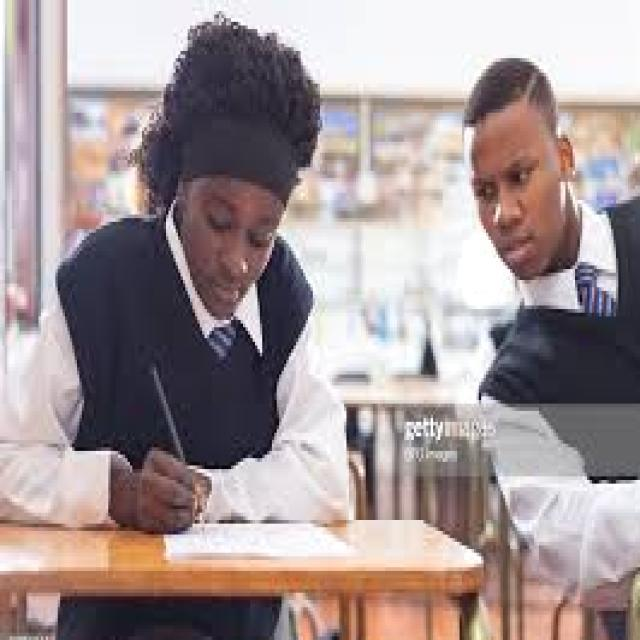cheating: (436, 45, 632, 327)
good: (0, 12, 362, 570)
